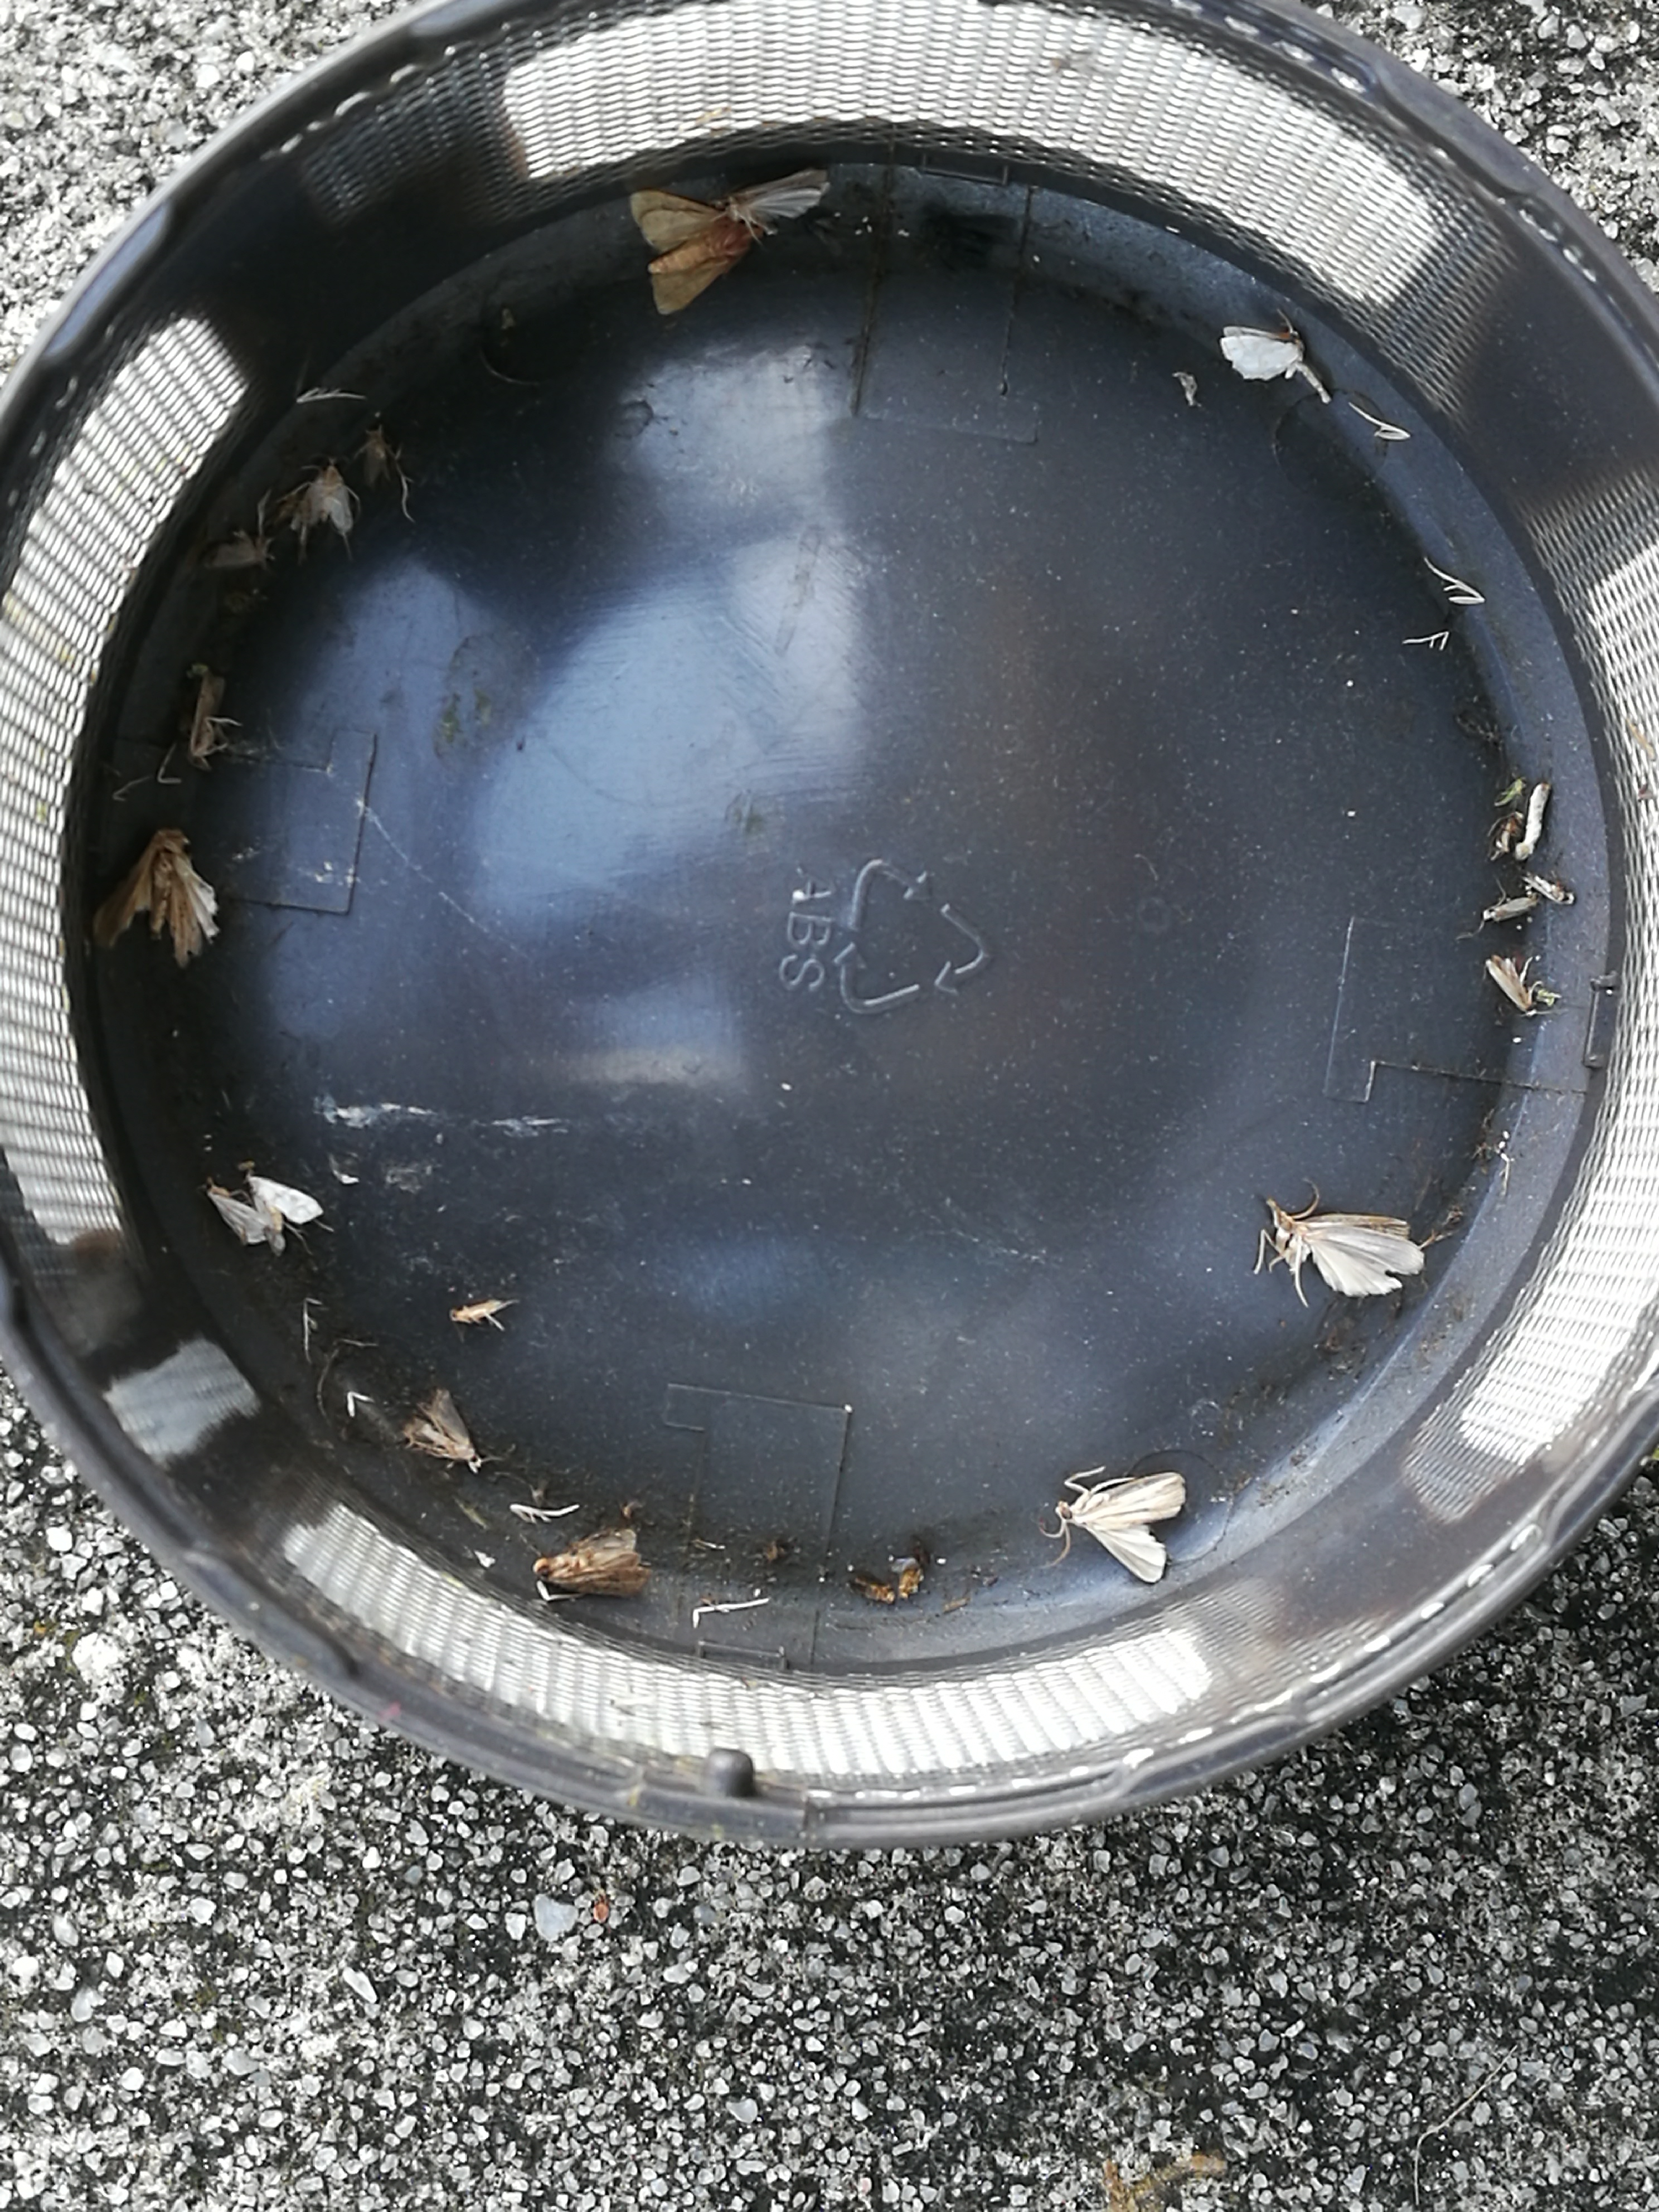mosquito: (188, 671, 225, 770), (1486, 958, 1539, 1017), (1516, 786, 1547, 860), (1525, 873, 1577, 906), (364, 425, 389, 489), (451, 1299, 507, 1322), (1481, 899, 1530, 921)
moth: (94, 829, 221, 965), (629, 190, 762, 314), (1267, 1200, 1424, 1296), (1054, 1474, 1185, 1585), (716, 169, 833, 233), (533, 1529, 648, 1594), (247, 1176, 324, 1256), (404, 1392, 479, 1470), (289, 465, 354, 531), (202, 1177, 265, 1245), (1222, 327, 1298, 380)
